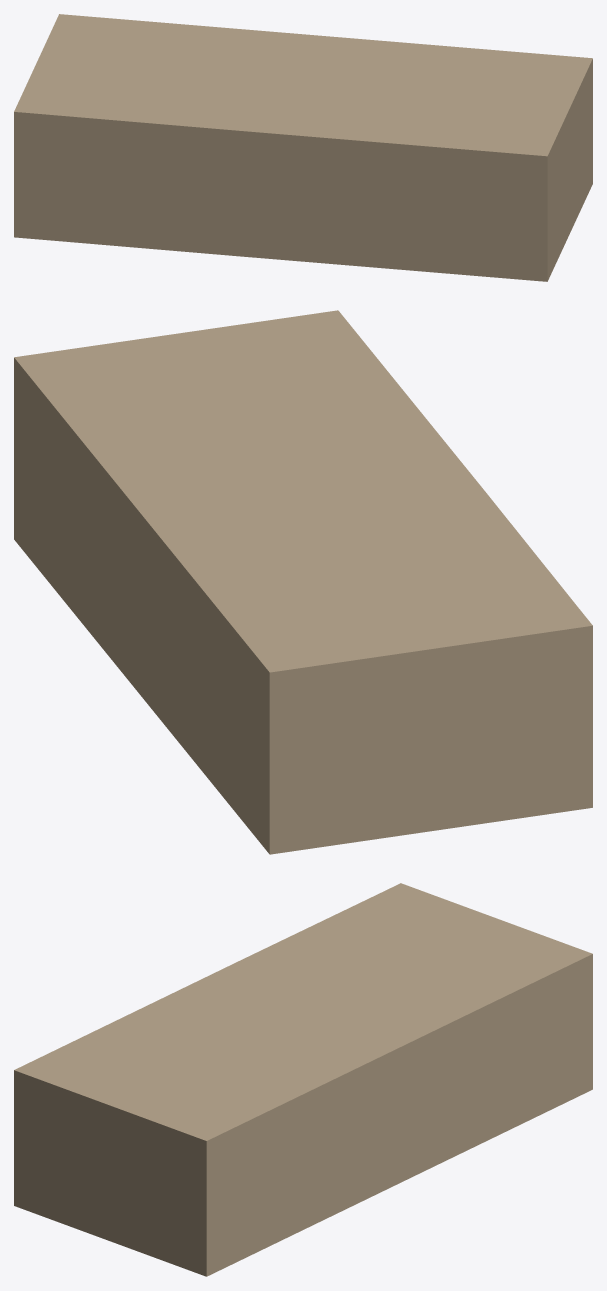
The model's file is bld_274778202.dae.
3 views of the same model, one above another, from view 1: azimuth 30°, elevation 25°; view 2: azimuth 150°, elevation 25°; view 3: azimuth 270°, elevation 25° (orthographic). The views are drawn at different scales.
Visible parts, largest first — view 1: Lord Riche Hall; view 2: Lord Riche Hall; view 3: Lord Riche Hall.
Part boxes in pixels (bbox=[...]): Lord Riche Hall: bbox=[14, 14, 592, 281]; Lord Riche Hall: bbox=[14, 310, 592, 854]; Lord Riche Hall: bbox=[14, 883, 592, 1276].
Bounding box in the file's own units: 48.91 × 46.39 × 12.
